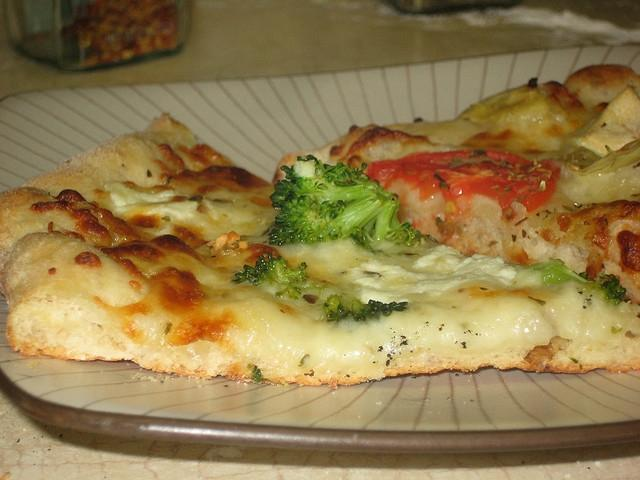broccoli: (268, 153, 438, 256), (233, 254, 409, 323), (532, 259, 626, 305)
tomato: (366, 150, 560, 217)
